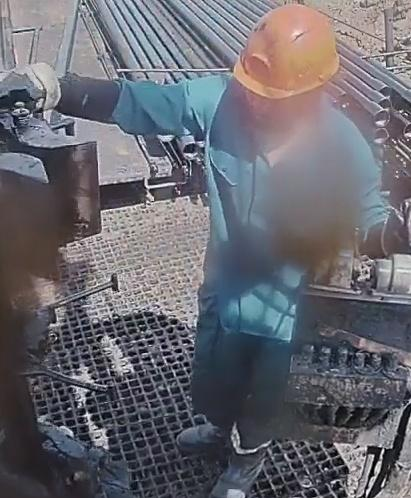gloves: (0, 61, 61, 113), (381, 197, 411, 259)
helmet: (232, 3, 340, 99)
vest: (191, 76, 374, 331)
